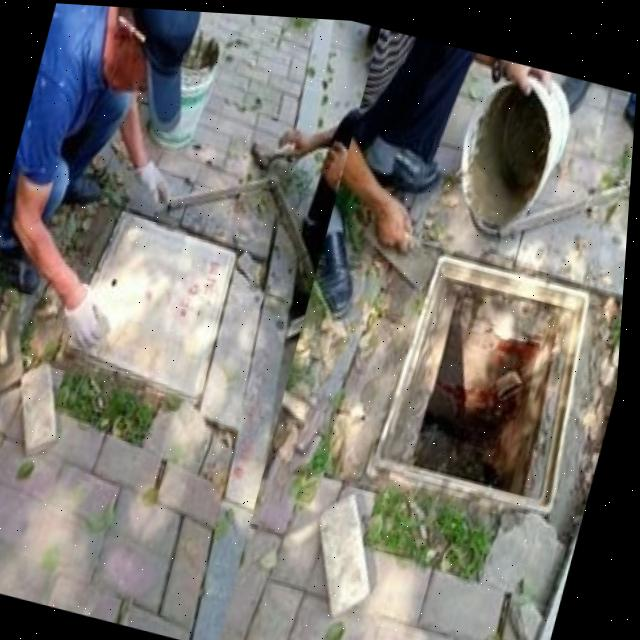manhole: (376, 234, 614, 510)
